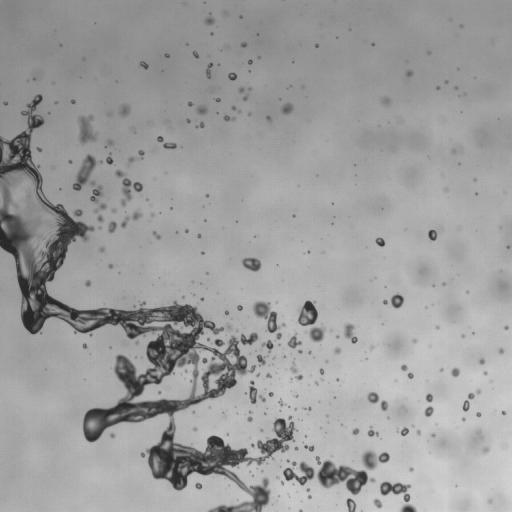droplet: (380, 481, 417, 511), (115, 170, 142, 205), (78, 115, 96, 144), (242, 257, 261, 271), (287, 333, 301, 348), (391, 293, 403, 308), (261, 340, 273, 352), (346, 498, 356, 511), (282, 103, 293, 114), (119, 104, 129, 116), (428, 229, 437, 241), (131, 211, 141, 220), (424, 406, 433, 416), (368, 427, 378, 436), (373, 498, 382, 508), (108, 221, 116, 232), (257, 354, 265, 365), (398, 427, 409, 435), (205, 15, 214, 24), (376, 237, 385, 246), (197, 106, 207, 114), (451, 368, 459, 377), (425, 393, 433, 402), (223, 115, 234, 121), (228, 72, 236, 80), (106, 155, 113, 164), (73, 209, 82, 216), (140, 61, 148, 68), (382, 97, 389, 105), (128, 157, 136, 164), (97, 214, 104, 222), (305, 445, 314, 451), (278, 399, 285, 406), (196, 122, 204, 128), (106, 140, 113, 146), (138, 150, 144, 157), (401, 364, 407, 371), (352, 428, 359, 434), (406, 70, 412, 76), (334, 347, 340, 353), (483, 447, 489, 453), (195, 483, 201, 489), (193, 51, 198, 57), (85, 280, 90, 286), (241, 42, 246, 47), (239, 87, 244, 92), (237, 305, 242, 310), (498, 348, 503, 353), (479, 359, 484, 364), (408, 373, 413, 378), (476, 412, 481, 417), (476, 431, 481, 436), (164, 53, 169, 57), (248, 59, 252, 64), (243, 95, 247, 100), (266, 116, 271, 120), (100, 247, 104, 252), (108, 264, 113, 268), (247, 417, 252, 421), (188, 102, 192, 106), (232, 106, 236, 110), (37, 147, 41, 151), (112, 208, 116, 212), (197, 234, 201, 238), (383, 300, 387, 304), (83, 344, 87, 348), (266, 373, 270, 377), (476, 389, 480, 393), (269, 392, 273, 396), (193, 427, 197, 431), (416, 430, 420, 434), (110, 433, 114, 437), (294, 446, 298, 450), (409, 467, 413, 471), (215, 98, 219, 101), (71, 100, 75, 103), (186, 119, 190, 122), (504, 326, 508, 329), (413, 338, 416, 342), (370, 345, 373, 349), (320, 369, 323, 373), (484, 371, 487, 375), (307, 407, 311, 410), (502, 410, 505, 414), (308, 494, 311, 498), (4, 102, 7, 105), (185, 229, 188, 232), (225, 311, 228, 314), (135, 341, 138, 344), (315, 44, 318, 46), (437, 86, 439, 89), (452, 150, 455, 152), (69, 160, 71, 163), (14, 179, 17, 181), (27, 193, 29, 196), (206, 194, 208, 197), (151, 213, 153, 216), (436, 326, 439, 328), (299, 350, 301, 353), (308, 351, 311, 353), (256, 374, 259, 376), (315, 382, 318, 384), (158, 391, 161, 393), (295, 394, 297, 397), (462, 418, 465, 420), (277, 476, 279, 479), (488, 500, 491, 502), (445, 80, 447, 82), (248, 113, 250, 115), (201, 252, 203, 254), (201, 298, 203, 300), (462, 335, 464, 337), (207, 338, 209, 340), (184, 369, 186, 371), (249, 411, 251, 413), (432, 434, 434, 436), (307, 489, 309, 491)
ligament: (0, 95, 290, 511), (281, 450, 389, 494), (252, 302, 285, 339), (297, 300, 326, 342), (73, 154, 101, 190), (90, 181, 106, 212), (248, 380, 265, 403), (367, 392, 387, 411), (344, 323, 357, 343), (157, 136, 176, 148), (462, 393, 474, 411), (290, 363, 302, 380), (121, 216, 129, 227), (206, 63, 212, 77), (152, 231, 160, 239), (299, 510, 302, 511)
